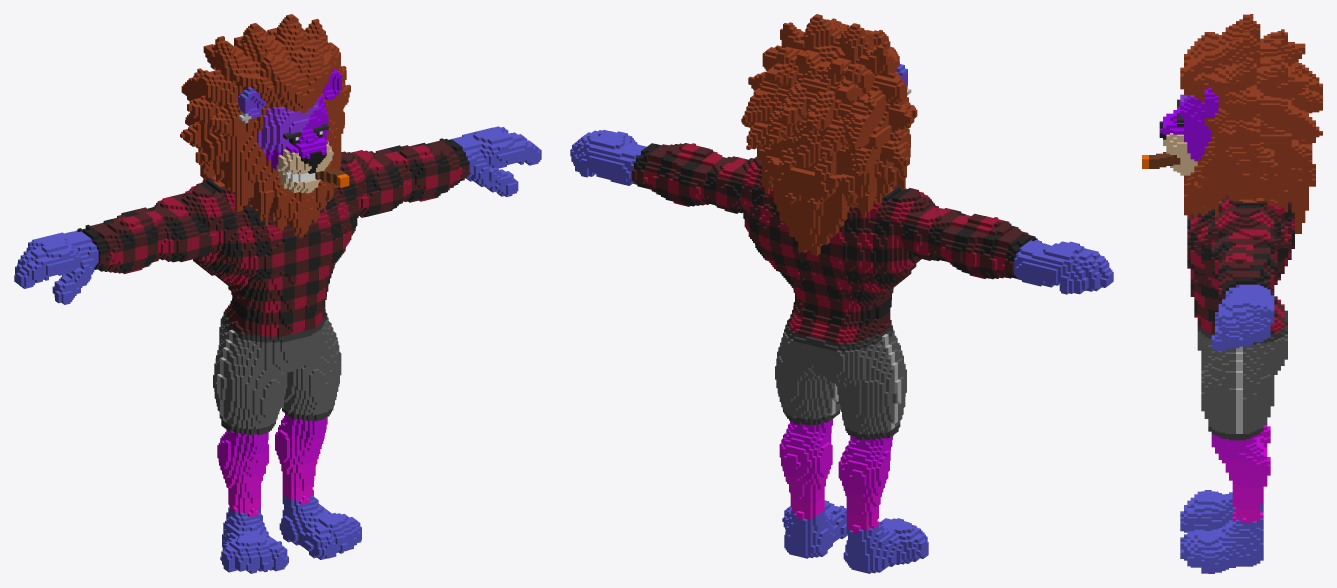
The model's file is 953-Cv90RTsK.fbx.
3 views of the same model, side by side, from view 1: azimuth 30°, elevation 25°; view 2: azimuth 150°, elevation 25°; view 3: azimuth 270°, elevation 25° (orthographic). The views are drawn at different scales.
Visible parts, largest first — view 1: cigar; view 2: cigar; view 3: cigar.
Part boxes in pixels (bbox=[...]): cigar: bbox=[14, 14, 541, 573]; cigar: bbox=[570, 14, 1113, 573]; cigar: bbox=[1142, 14, 1322, 573].
Bounding box in the file's own units: 17.2 × 16.5 × 5.2.
6 materials, 6 textured.
